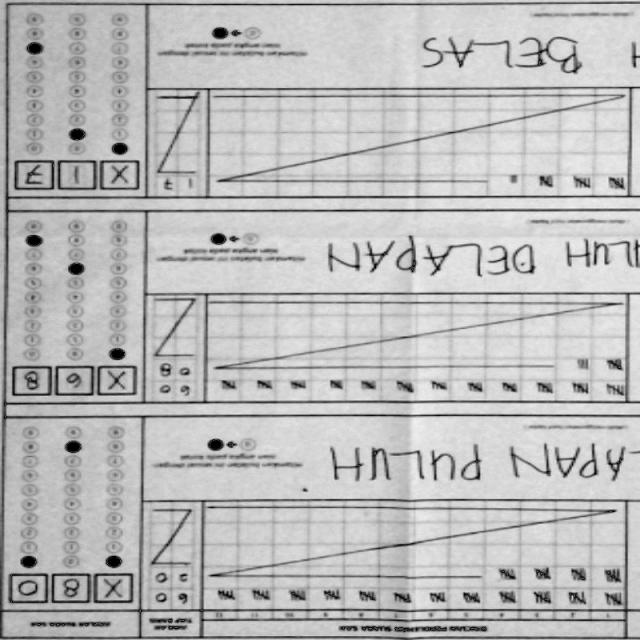Suara: (10, 152, 140, 193), (8, 362, 139, 398), (6, 570, 136, 604)
